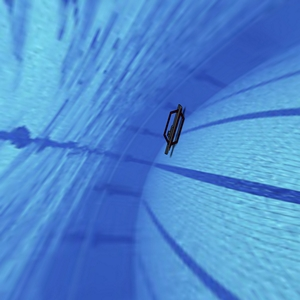submarine: (152, 85, 194, 166)
